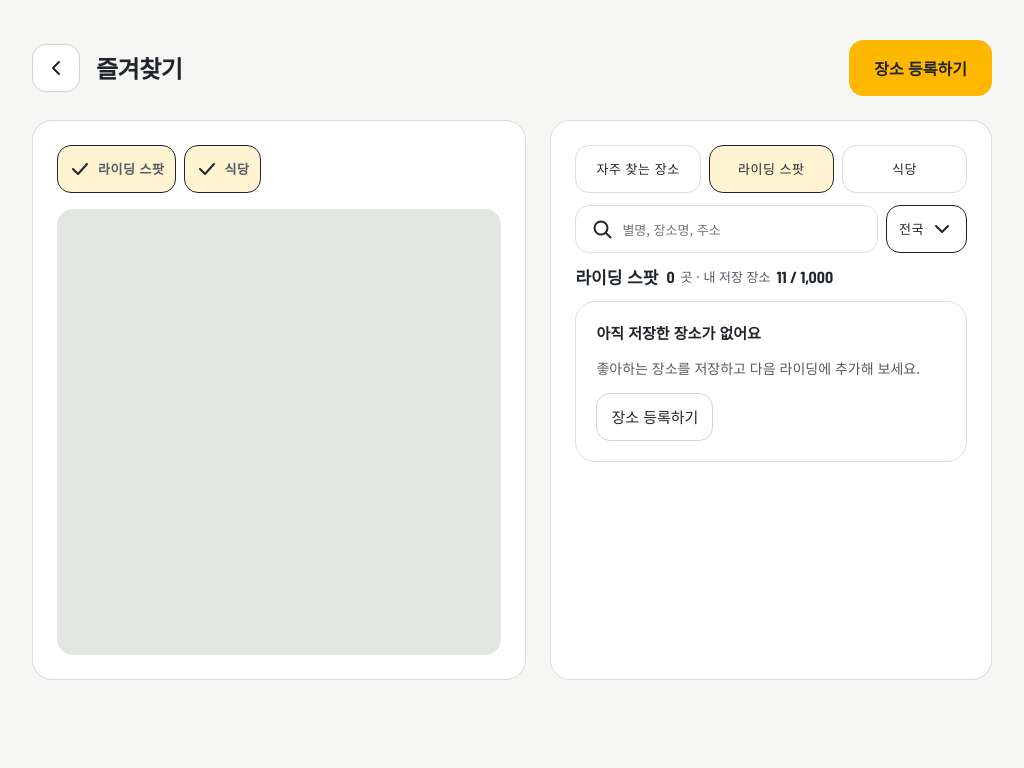
names the frequent places, shows 10 / 10, and disables adding an 11th star
Click the button "자주 찾는 장소". click: (638, 169)
box: [575,145,701,193]
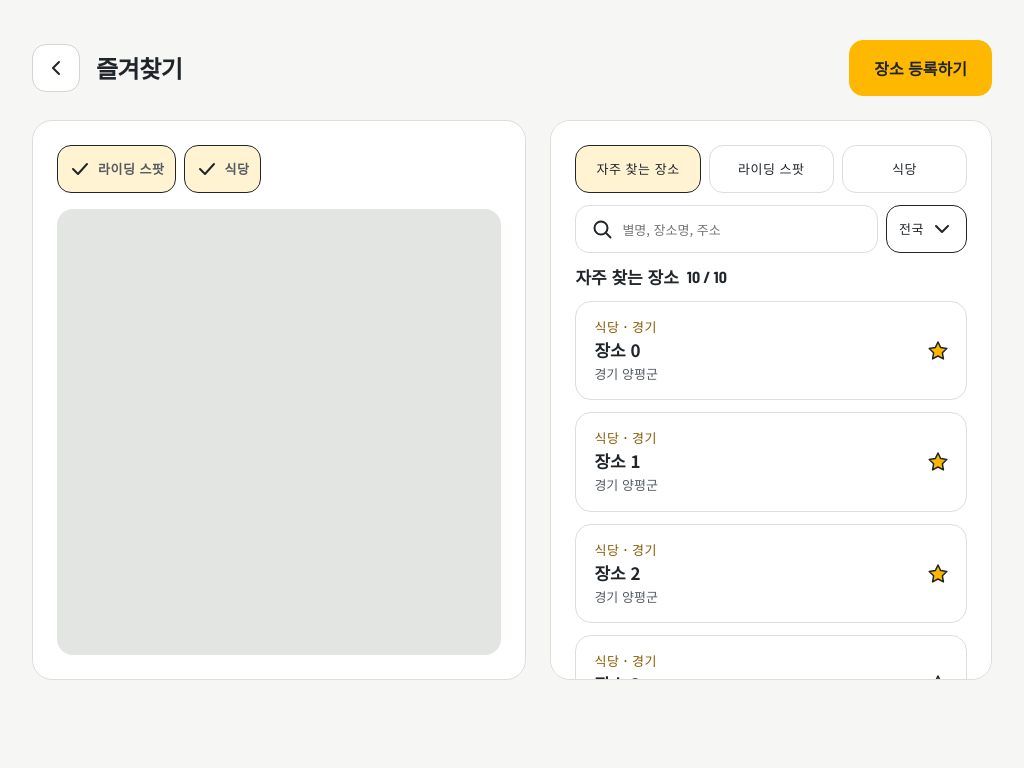
Click the button "식당". click: (904, 169)
box: [842,145,967,193]
(page scrolled)
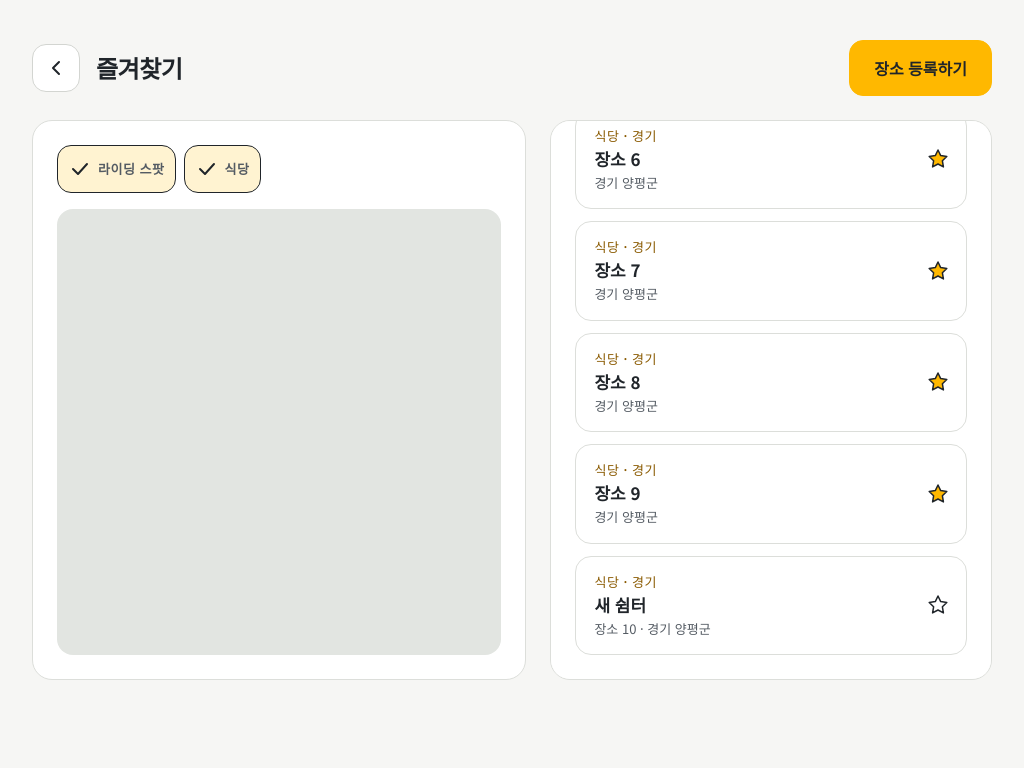
Click the button named "자주 찾는 장소에 추가". click: (938, 605)
box: [914,581,962,629]
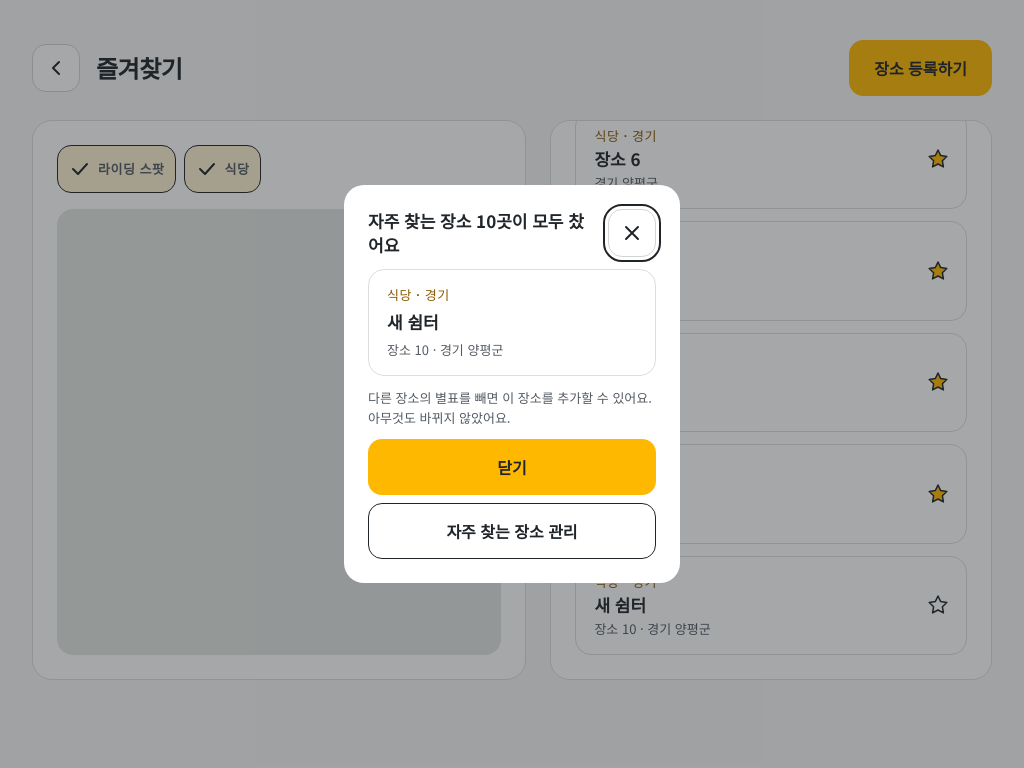
Result: the text "자주 찾는 장소 10곳이 모두 찼어요" is shown at [368,209,596,256]
Result: the text "아무것도 바뀌지 않았어요." is shown at [368,388,652,427]
Click the button "닫기". click: (512, 467)
box: [368,439,656,495]
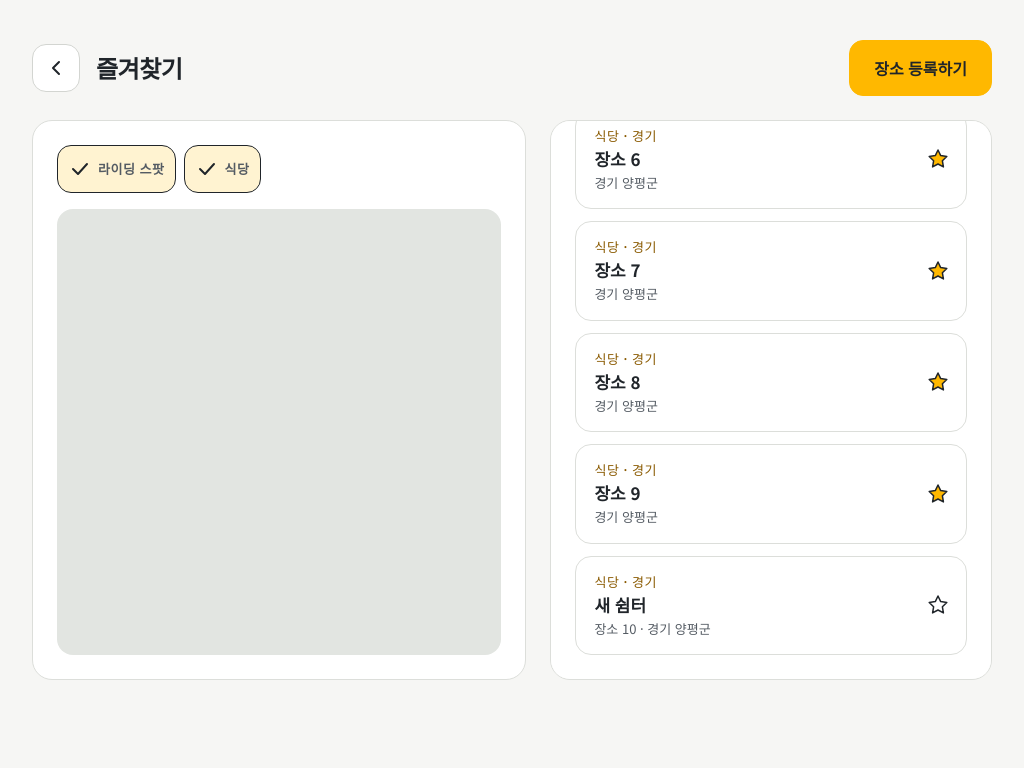
Result: the text "자주 찾는 장소 10곳이 모두 찼어요" is gone
Click the button "식당 · 경기 새 쉼터 장소 10 · 경기 양평군". click: (620, 604)
box: [594,573,910,638]
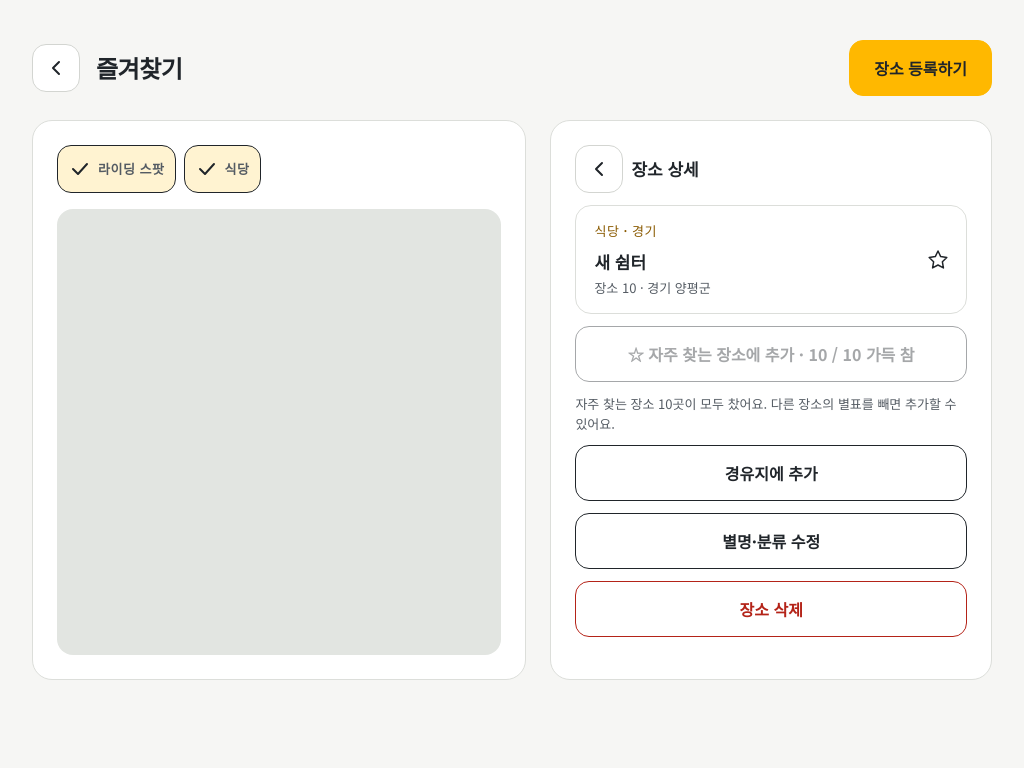
Result: the button "☆ 자주 찾는 장소에 추가 · 10 / 10 가득 참" is disabled at [575,326,967,382]
Result: the button "☆ 자주 찾는 장소에 추가 · 10 / 10 가득 참" is shown at [575,326,967,382]
Result: the text "자주 찾는 장소 10곳이 모두 찼어요." is shown at [575,394,967,433]
